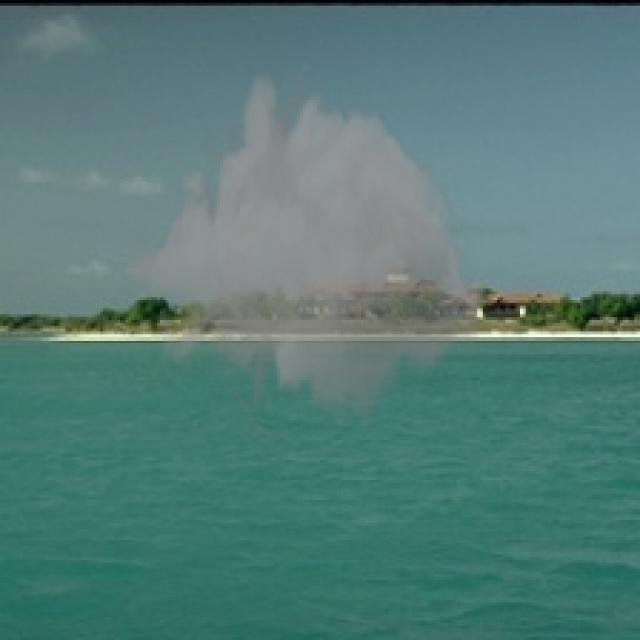smoke: (123, 57, 488, 457)
